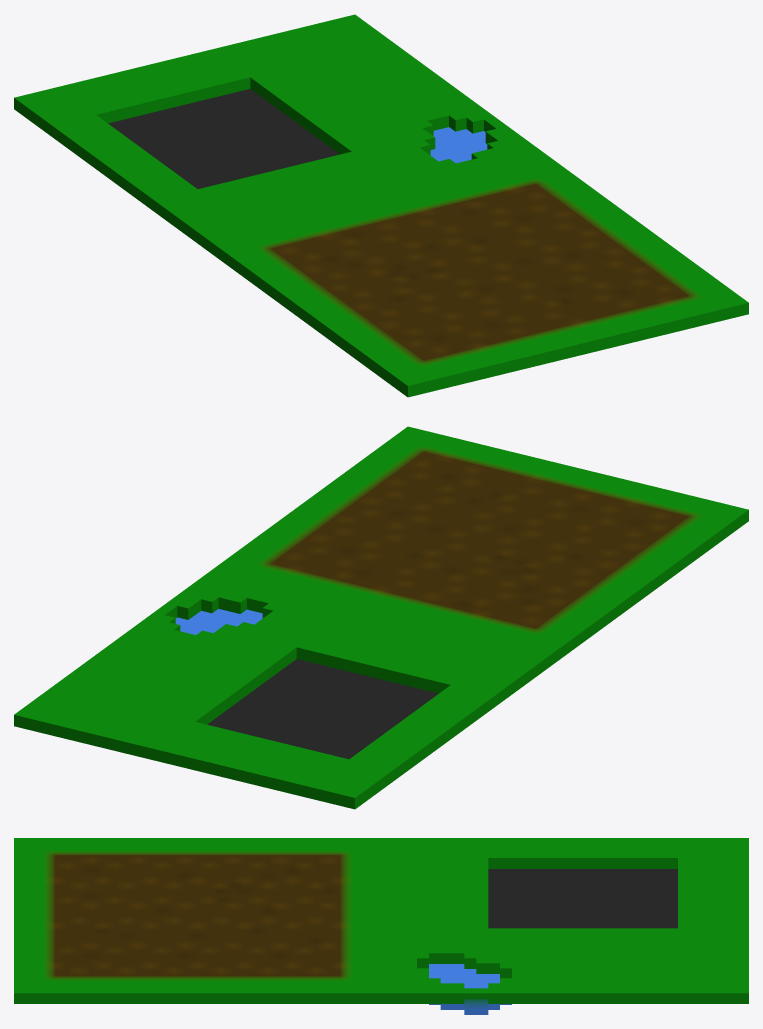
Rendered from Farmland.obj.
3 renders of one model, top to bottom at view 1: azimuth 30°, elevation 25°; view 2: azimuth 150°, elevation 25°; view 3: azimuth 270°, elevation 25°, orthographic. The views are drawn at different scales.
Visible parts, largest first — view 1: Matrix_3, Matrix_1; view 2: Matrix_1, Matrix_3; view 3: Matrix_1, Matrix_3.
Boxes of the visible parts, x1=… form: Matrix_3: x1=211, y1=158, x2=748, y2=397; Matrix_1: x1=14, y1=14, x2=551, y2=252; Matrix_1: x1=14, y1=570, x2=551, y2=809; Matrix_3: x1=211, y1=426, x2=748, y2=664; Matrix_1: x1=381, y1=838, x2=748, y2=1014; Matrix_3: x1=14, y1=838, x2=381, y2=1003.
Size of the model in its own units: 31 by 2 by 62.
Materials: 1 (1 with a texture image).
